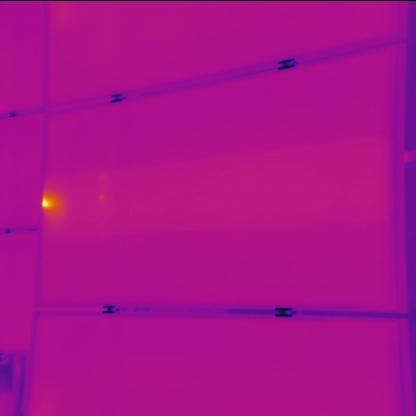hotspot: (40, 196, 54, 210)
